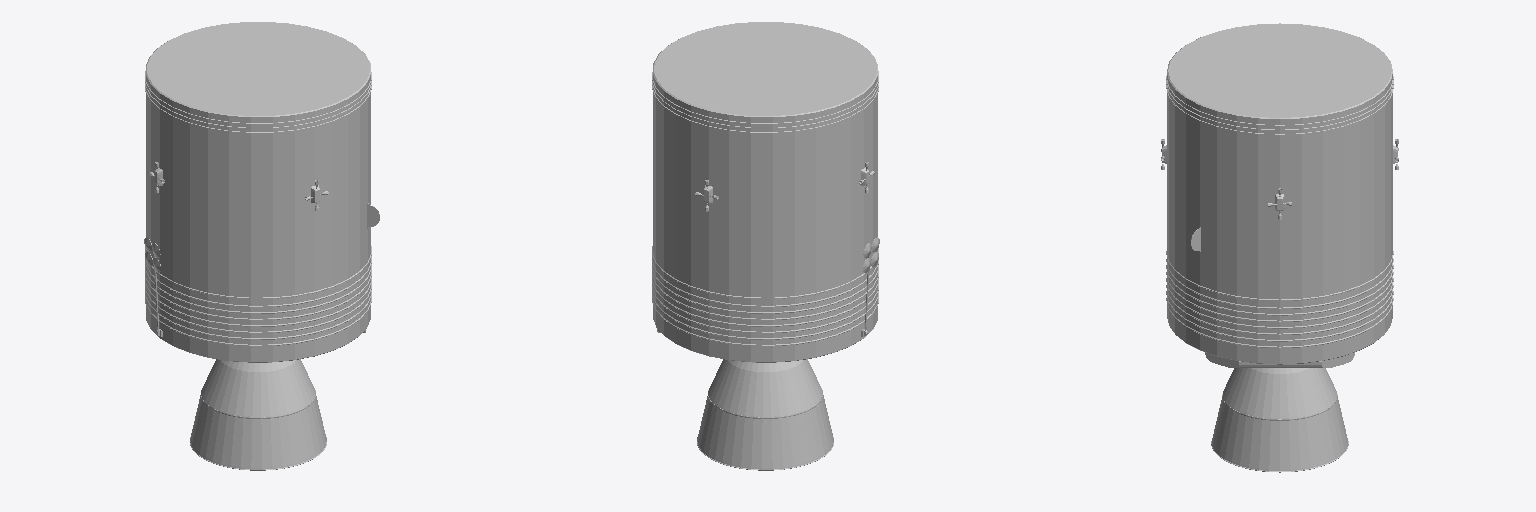
Rendered from Saturn V_2.obj.
3 views of the same model, side by side, from view 1: azimuth 30°, elevation 25°; view 2: azimuth 150°, elevation 25°; view 3: azimuth 270°, elevation 25° (orthographic).
Visible parts, largest first — view 1: Apollo_Service_Module_Cylinder.006, AJ10-137_Nozzle_Cylinder.025; view 2: Apollo_Service_Module_Cylinder.006, AJ10-137_Nozzle_Cylinder.025; view 3: Apollo_Service_Module_Cylinder.006, AJ10-137_Nozzle_Cylinder.025, AJ10-137_Engine_Cube.010, RCS_Cluster_-_Apollo_Service_Module__Cube.002.
Boxes of the visible parts, box(x1,y1,x2,y2) form: Apollo_Service_Module_Cylinder.006: box(145, 22, 371, 362); AJ10-137_Nozzle_Cylinder.025: box(190, 359, 326, 470); Apollo_Service_Module_Cylinder.006: box(652, 22, 878, 362); AJ10-137_Nozzle_Cylinder.025: box(697, 359, 833, 470); Apollo_Service_Module_Cylinder.006: box(1166, 23, 1393, 364); AJ10-137_Nozzle_Cylinder.025: box(1211, 368, 1348, 472); AJ10-137_Engine_Cube.010: box(1205, 352, 1354, 367); RCS_Cluster_-_Apollo_Service_Module__Cube.002: box(1161, 139, 1398, 219).
Bounding box in the file's own units: 4.22 × 7.11 × 4.12.